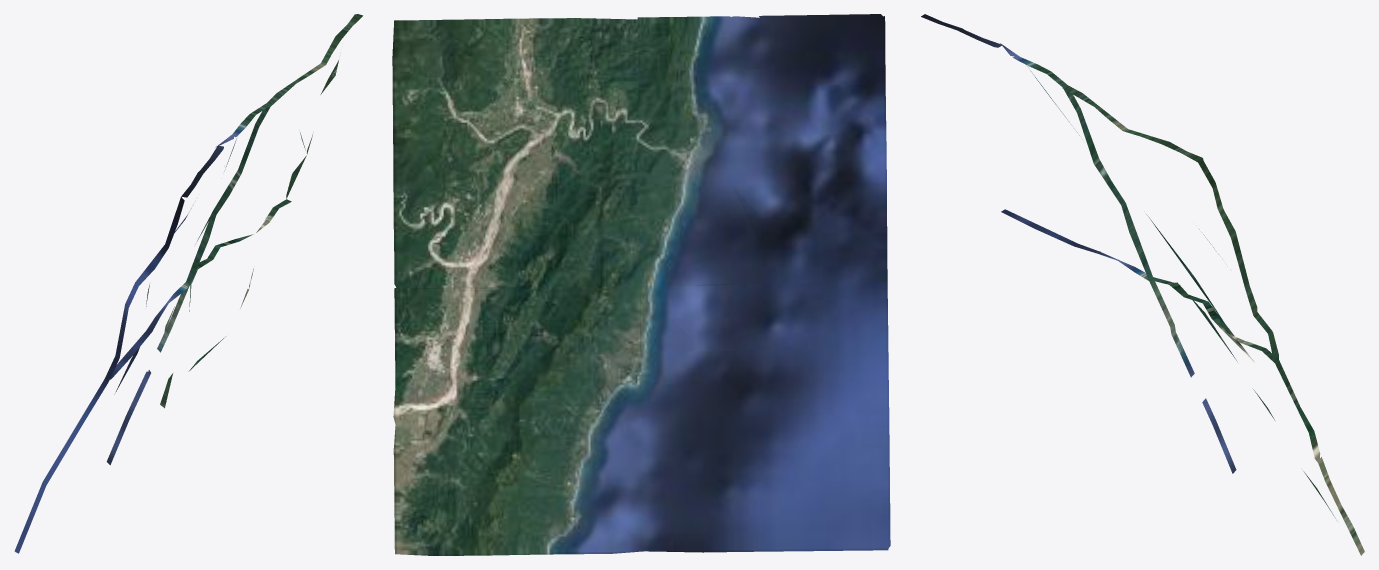
3 renders of one model, left to right at view 1: azimuth 30°, elevation 25°; view 2: azimuth 150°, elevation 25°; view 3: azimuth 270°, elevation 25°, orthographic. The views are drawn at different scales.
Size of the model in its own units: 37693 by 37557 by 34119.
Materials: 1 (1 with a texture image).
